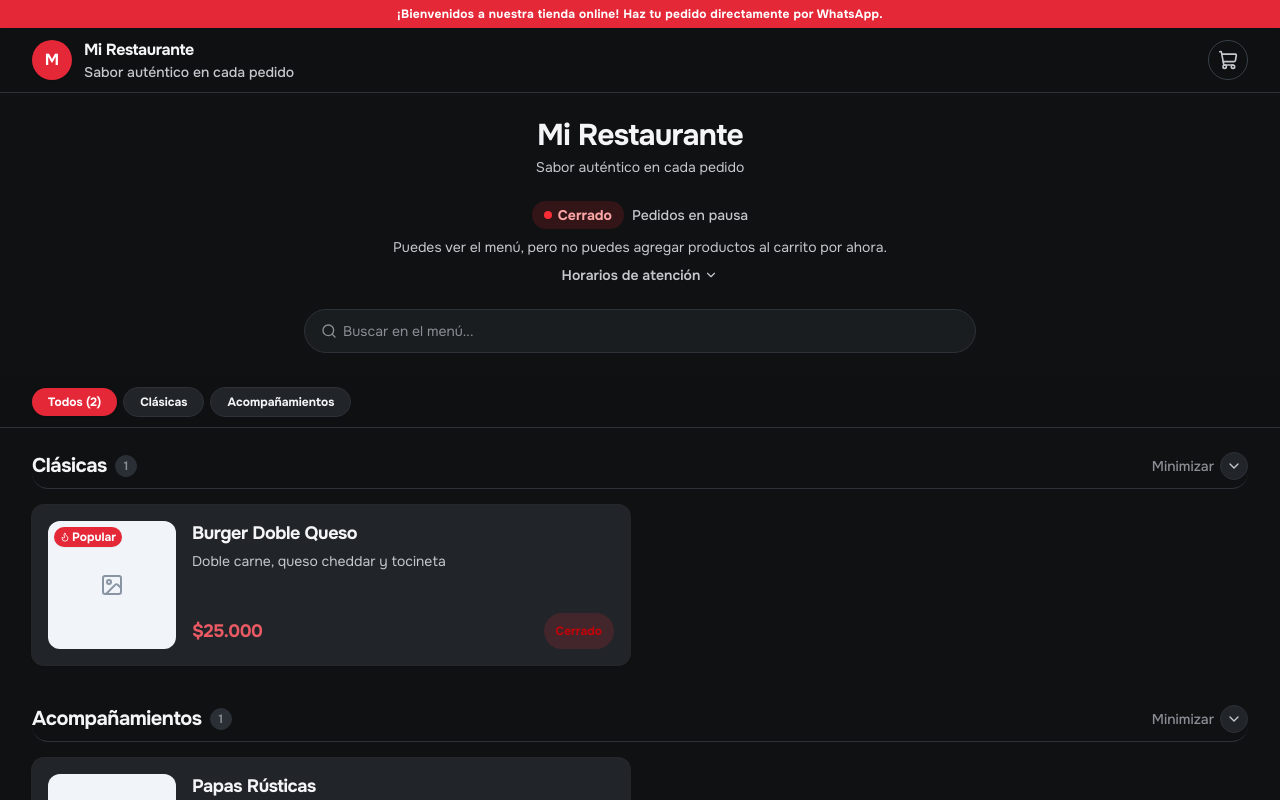
Test: Home - opening status › keeps the menu browsable but blocks adding while paused, with the notice shown once
Expected: the search field with placeholder "Buscar en el menú..." is shown, top-left (337, 309), bottom-right (971, 353)
Expected: the text "no puedes agregar productos" is shown once, top-left (393, 238), bottom-right (887, 256)
What coordinates should you click on to do the following:
click the button with aria-label "Cerrado, no se puede agregar"
I would click on:
 (112, 585)
Its box is top-left (32, 505), bottom-right (630, 665).
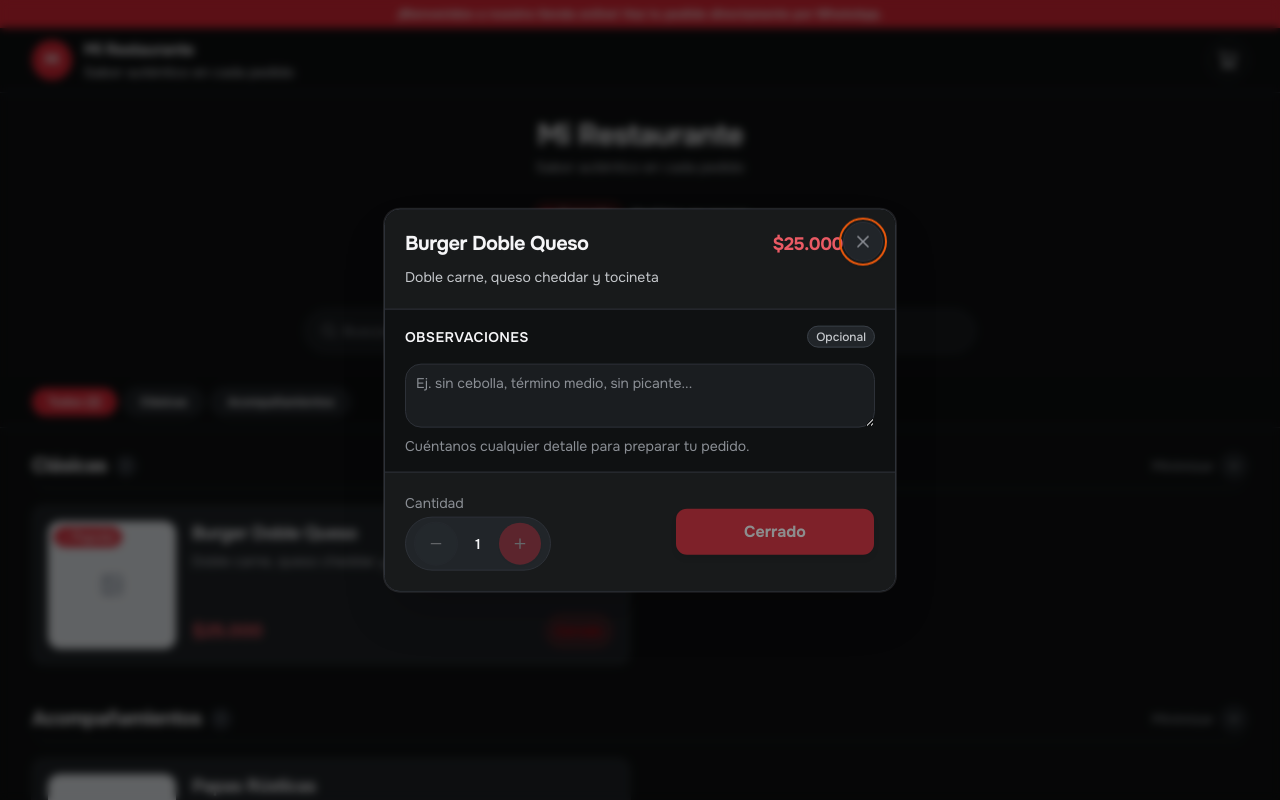
Result: the button "Cerrado" is disabled at top-left (675, 507), bottom-right (875, 555)
